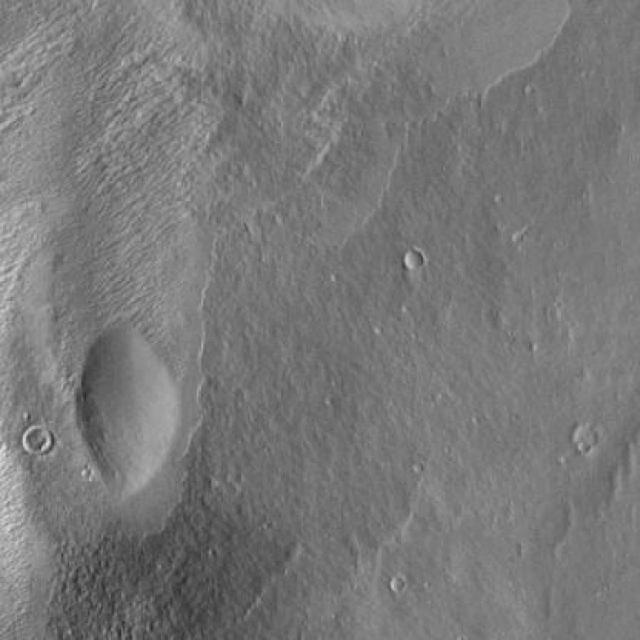crater: (24, 430, 50, 456), (389, 573, 408, 595), (577, 429, 595, 448), (404, 250, 422, 268)
